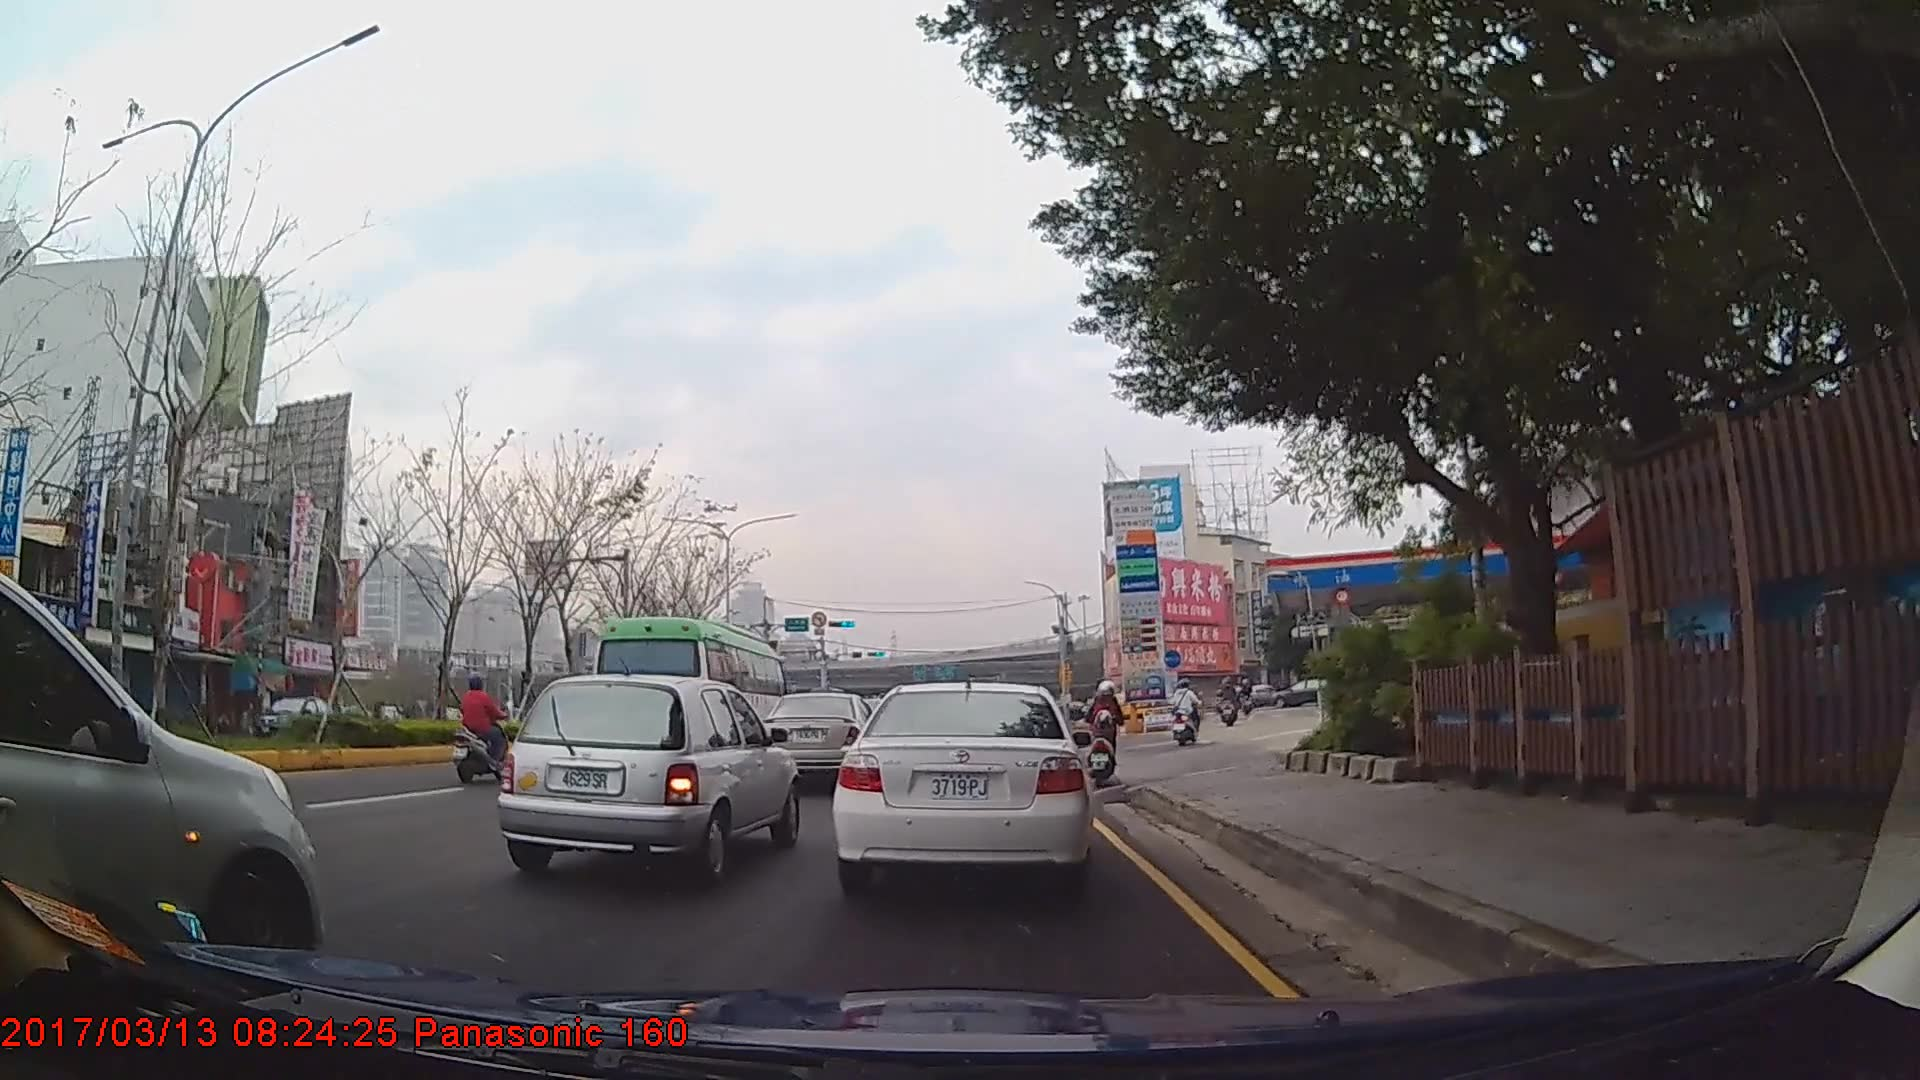rider: (452, 668, 516, 785), (1086, 683, 1125, 784), (1172, 679, 1200, 747), (1220, 675, 1240, 727)
vehicle: (0, 572, 325, 998), (497, 670, 800, 878), (832, 678, 1096, 898), (586, 611, 789, 778), (760, 689, 883, 781), (248, 690, 338, 738), (1268, 677, 1338, 707)
